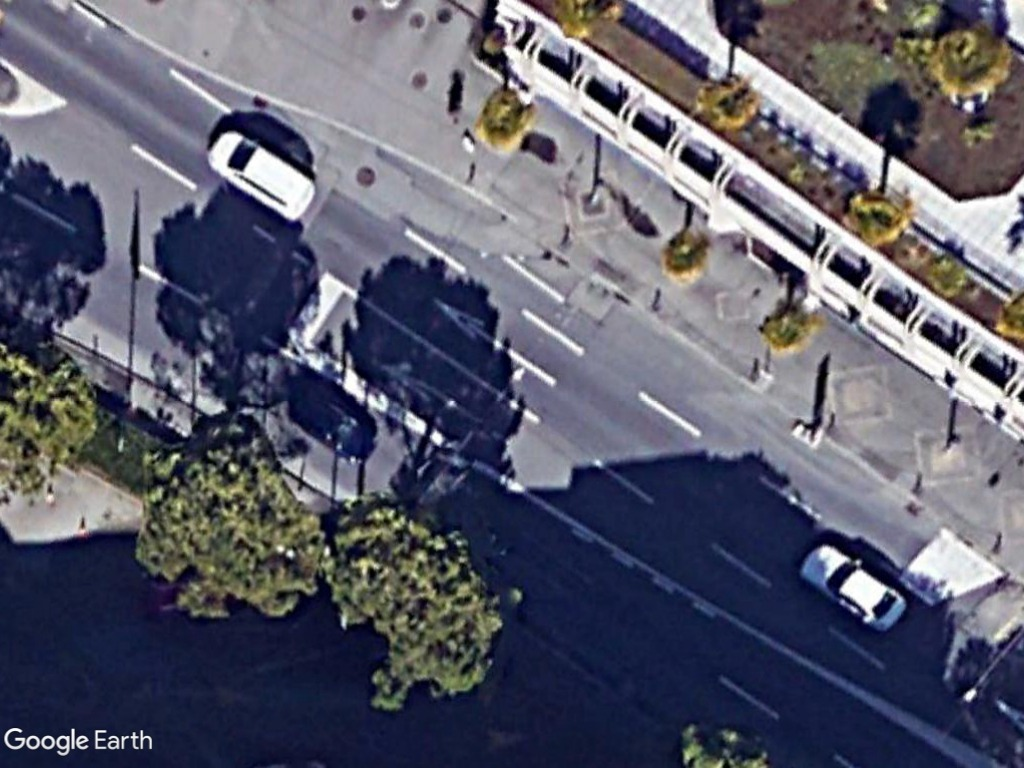car: (800, 541, 908, 637)
van: (203, 124, 320, 223)
